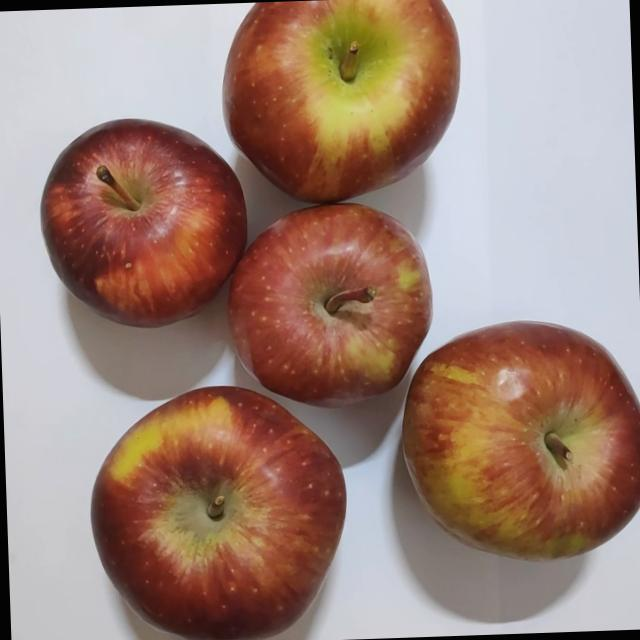apple: (85, 386, 361, 640), (391, 321, 640, 587), (214, 0, 479, 225), (218, 202, 452, 432), (35, 115, 262, 352)
